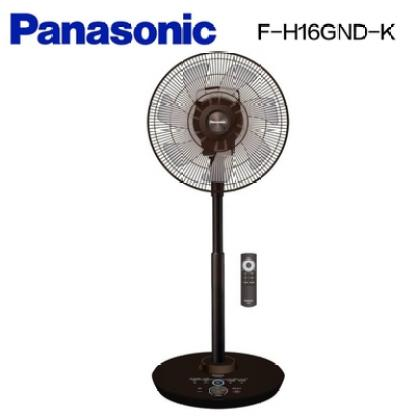fan: (137, 44, 301, 416)
